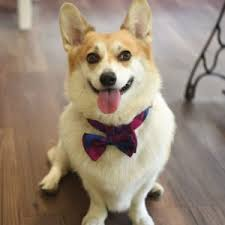dog: (36, 1, 177, 224)
